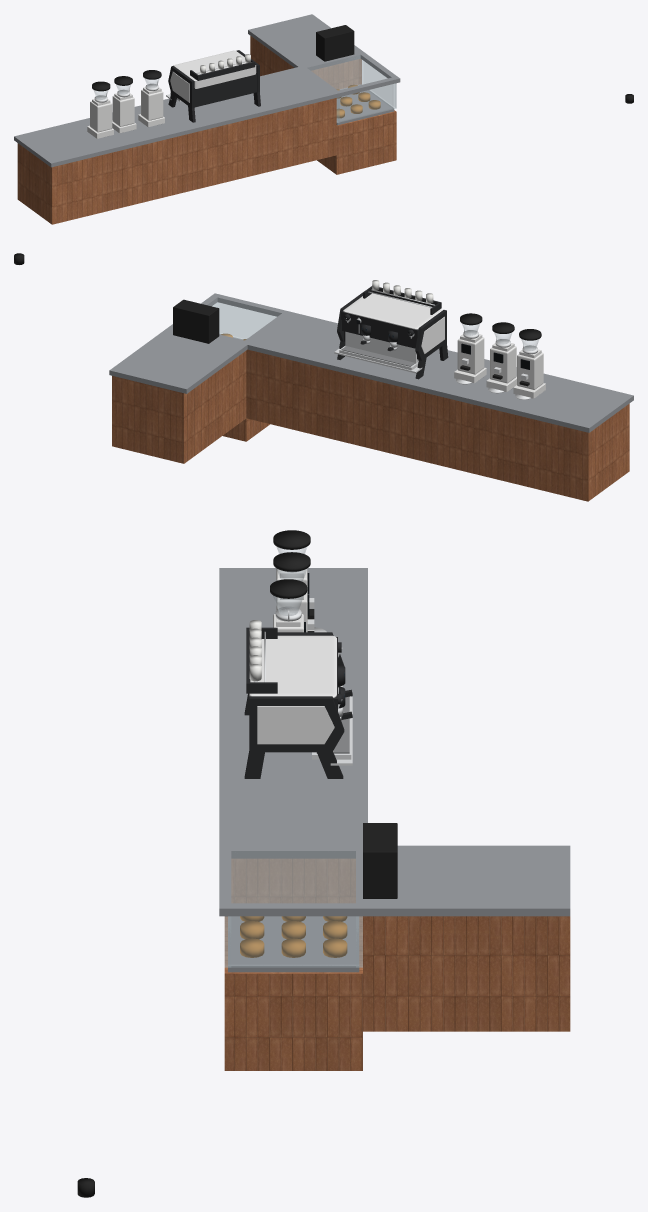
File: walk-bar.7a2277150c.glb
3 renders of one model, top to bottom at view 1: azimuth 30°, elevation 25°; view 2: azimuth 150°, elevation 25°; view 3: azimuth 270°, elevation 25°, orthographic. The views are drawn at different scales.
Visible parts, largest first — view 1: bar, bar_top, cab_pedestal, bar_leg_top, bar_leg, pastry_glass, cab_glass_f, espresso_hood, pos, espresso_body, cab_glass_b, cab_tray (+10 smaller); view 2: bar, bar_top, bar_leg, bar_leg_top, espresso_hood, pos, pastry_glass, cab_glass_f, espresso_bar_black, espresso_front_steel, grinder_body.002, grinder_body (+6 smaller); view 3: bar_top, bar_leg, cab_pedestal, bar_leg_top, cab_glass_r, pastry_glass, bar, cab_glass_l, cab_tray, espresso_hood, espresso_side_white.001, pos (+3 smaller).
Part boxes in pixels (bbox=[...]): bar: bbox=[17, 98, 336, 224]; bar_top: bbox=[14, 66, 340, 167]; cab_pedestal: bbox=[317, 110, 396, 174]; bar_leg_top: bbox=[248, 14, 362, 67]; bar_leg: bbox=[250, 36, 361, 89]; pastry_glass: bbox=[308, 55, 390, 90]; cab_glass_f: bbox=[337, 84, 396, 122]; espresso_hood: bbox=[174, 50, 256, 88]; pos: bbox=[316, 25, 354, 61]; espresso_body: bbox=[194, 72, 256, 107]; cab_glass_b: bbox=[312, 59, 359, 89]; cab_tray: bbox=[336, 84, 394, 125]; bar: bbox=[246, 349, 629, 501]; bar_top: bbox=[244, 311, 633, 432]; bar_leg: bbox=[112, 351, 246, 463]; bar_leg_top: bbox=[109, 325, 247, 393]; espresso_hood: bbox=[343, 293, 442, 329]; pos: bbox=[173, 299, 219, 343]; pastry_glass: bbox=[208, 298, 281, 340]; cab_glass_f: bbox=[219, 303, 275, 338]; espresso_bar_black: bbox=[341, 311, 418, 348]; espresso_front_steel: bbox=[345, 331, 417, 363]; grinder_body.002: bbox=[457, 337, 484, 374]; grinder_body: bbox=[517, 352, 543, 389]; bar_top: bbox=[219, 568, 367, 849]; bar_leg: bbox=[363, 916, 570, 1031]; cab_pedestal: bbox=[224, 916, 362, 1070]; bar_leg_top: bbox=[363, 845, 570, 916]; cab_glass_r: bbox=[225, 916, 362, 967]; pastry_glass: bbox=[231, 851, 355, 902]; bar: bbox=[231, 859, 355, 902]; cab_glass_l: bbox=[231, 859, 355, 902]; cab_tray: bbox=[228, 916, 359, 972]; espresso_hood: bbox=[249, 635, 336, 697]; espresso_side_white.001: bbox=[257, 706, 334, 744]; pos: bbox=[363, 823, 397, 898].
Size of the model in its own units: 7.33 by 1.7 by 2.85.
17 materials, 1 textured.
